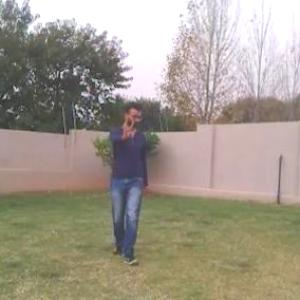takeoff-hand: (114, 113, 136, 145)
